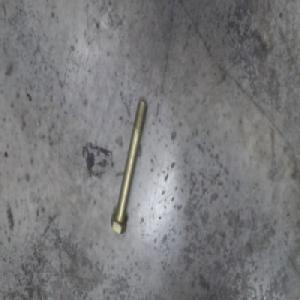Bolt: (110, 95, 148, 235)
